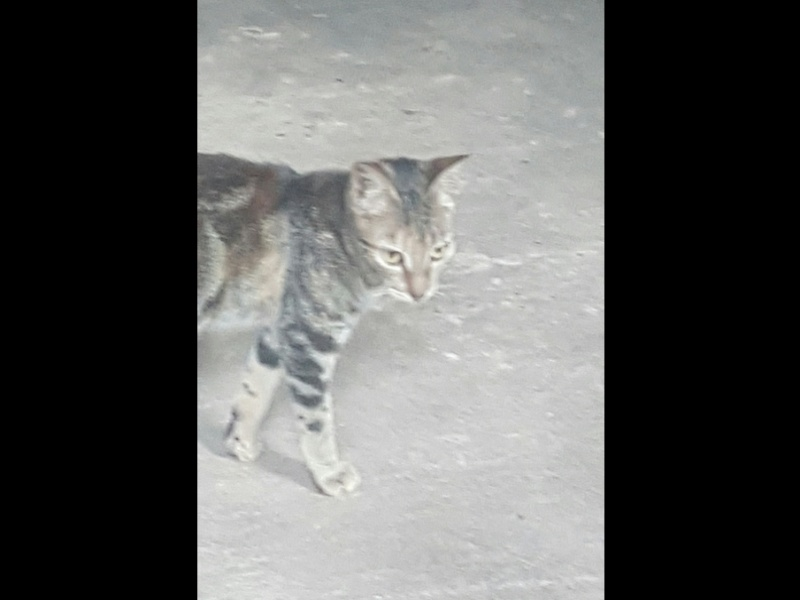cat: (204, 148, 477, 503)
